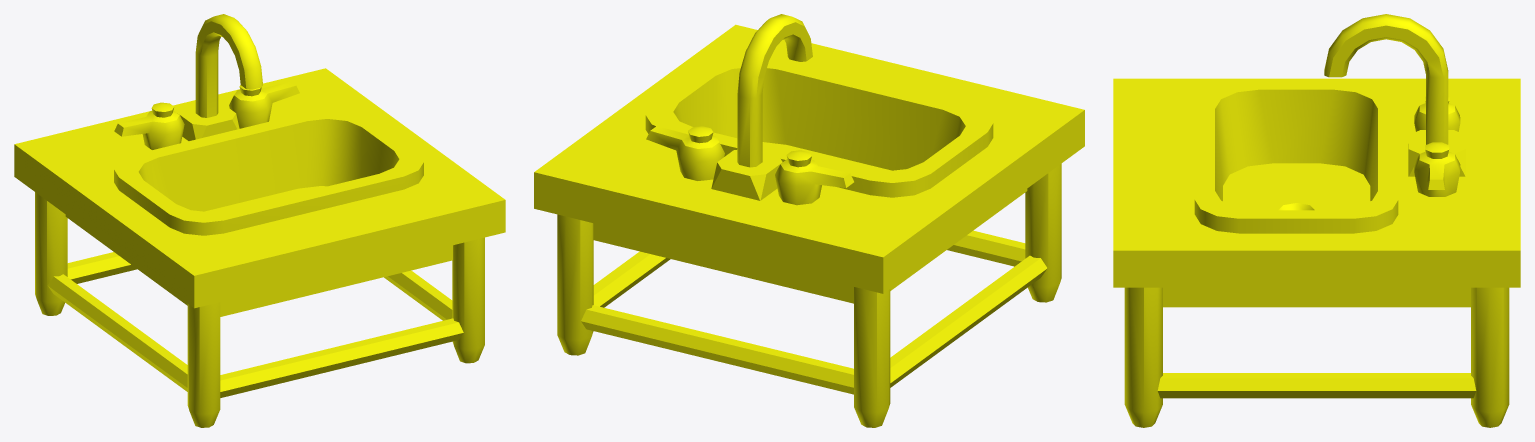
Rendered from kaykit-kitchentable-sink.glb.
The picture shows the model from 3 angles, left to right: view 1: azimuth 30°, elevation 25°; view 2: azimuth 150°, elevation 25°; view 3: azimuth 270°, elevation 25°; orthographic projection. The views are drawn at different scales.
Visible parts, largest first — view 1: kitchentable_sink; view 2: kitchentable_sink; view 3: kitchentable_sink.
Part boxes in pixels (<box>): kitchentable_sink: <box>14,14,505,427</box>; kitchentable_sink: <box>534,14,1084,427</box>; kitchentable_sink: <box>1113,14,1520,427</box>.
Size of the model in its own units: 2 by 1.81 by 2.
